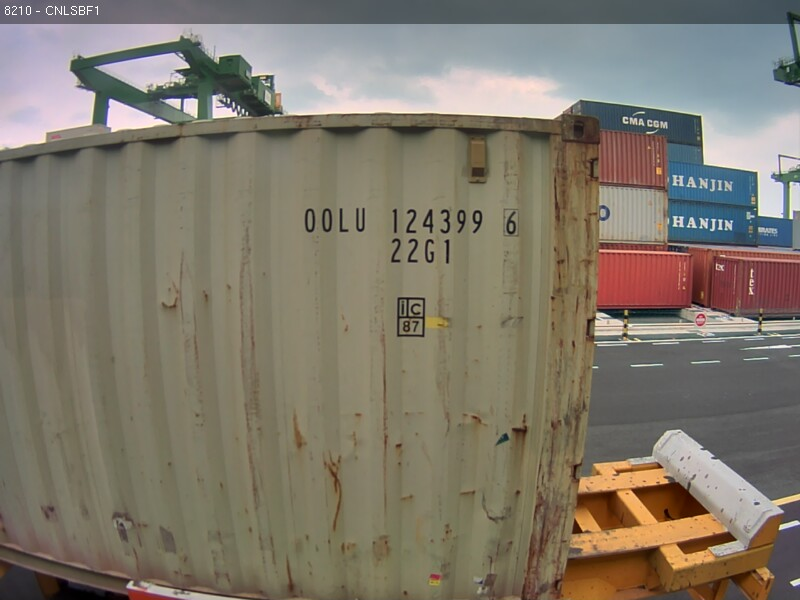container_no_door: (262, 96, 605, 599)
